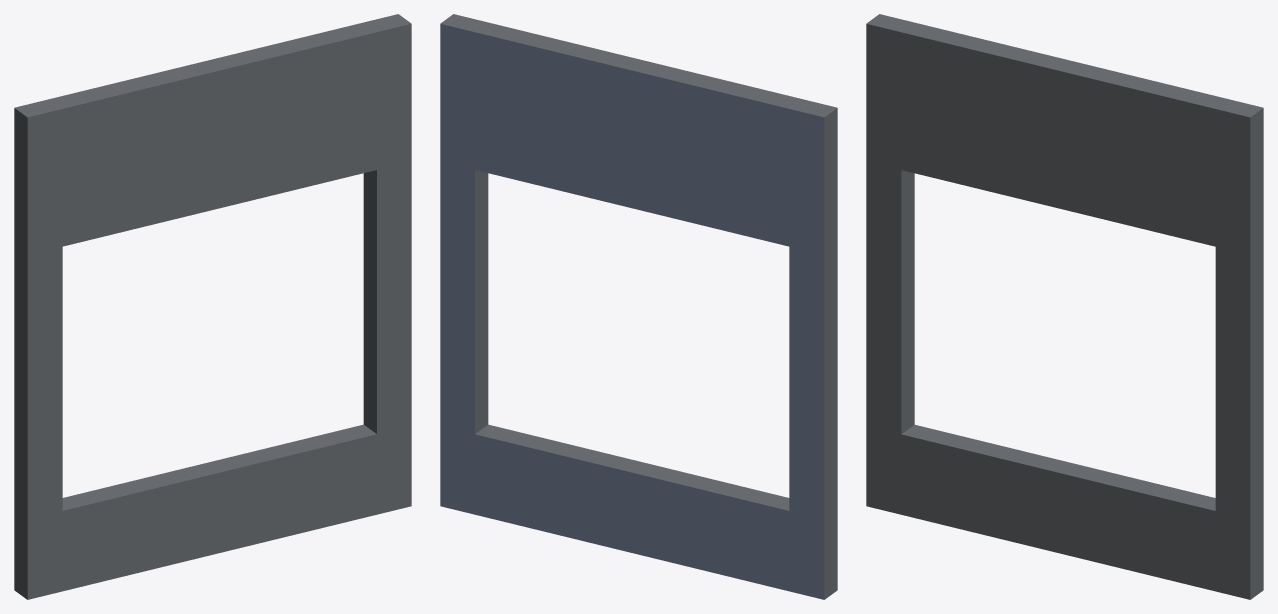
Rendered from Wall3_C4_05.fbx.
3 renders of one model, left to right at view 1: azimuth 30°, elevation 25°; view 2: azimuth 150°, elevation 25°; view 3: azimuth 330°, elevation 25°, orthographic.
Parts seen in each view (by area): view 1: Wall3_C4_05; view 2: Wall3_C4_05; view 3: Wall3_C4_05.
Boxes of the visible parts, <box> form: Wall3_C4_05: <box>14,14,411,599</box>; Wall3_C4_05: <box>440,14,837,599</box>; Wall3_C4_05: <box>866,14,1263,599</box>.
Size of the model in its own units: 250 by 300 by 15.
